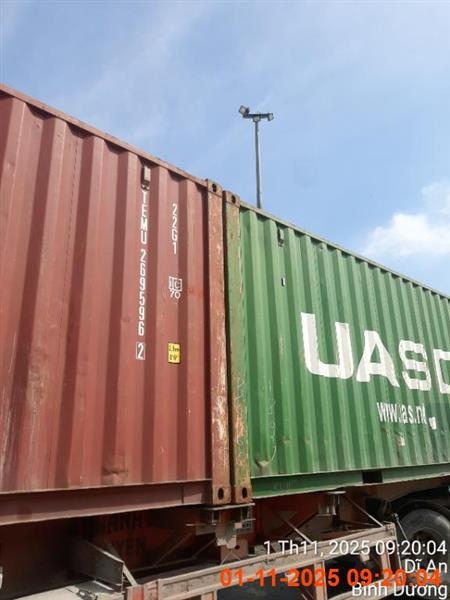broken: (2, 86, 449, 596)
